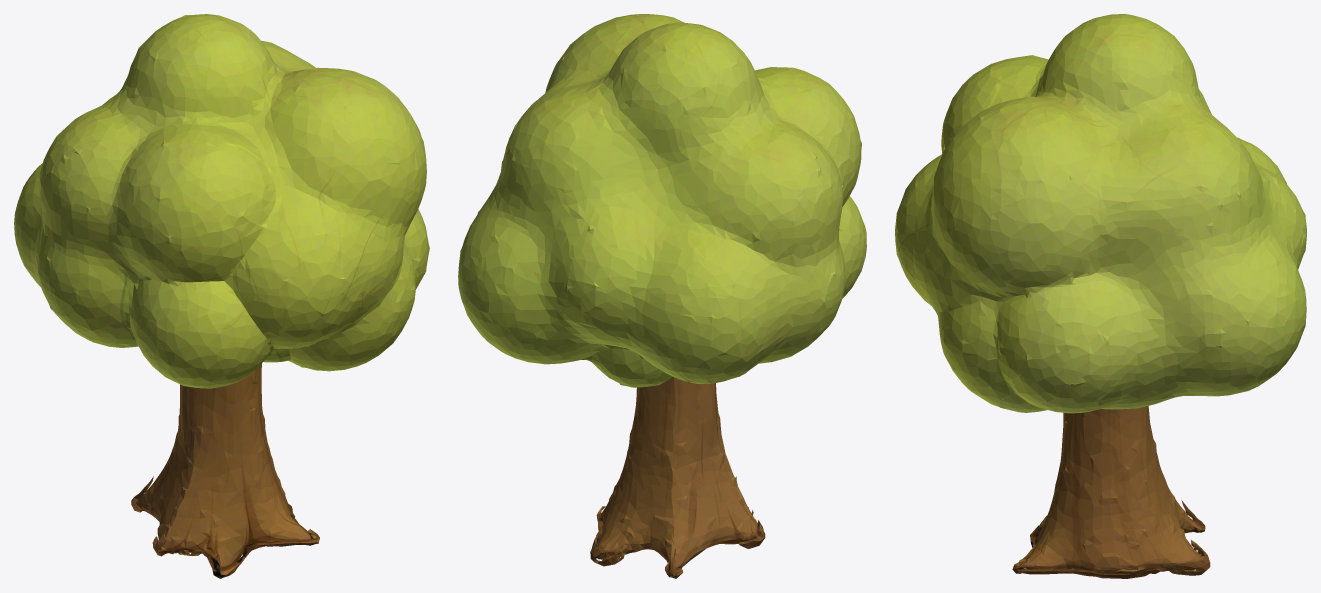
File: Tree_0523075430_texture.fbx
3 views of the same model, side by side, from view 1: azimuth 30°, elevation 25°; view 2: azimuth 150°, elevation 25°; view 3: azimuth 270°, elevation 25° (orthographic). The views are drawn at different scales.
Visible parts, largest first — view 1: temp; view 2: temp; view 3: temp.
Part boxes in pixels (x1=…): temp: x1=14, y1=14, x2=429, y2=578; temp: x1=458, y1=14, x2=866, y2=578; temp: x1=895, y1=14, x2=1306, y2=578.
Bounding box in the file's own units: 138 × 199 × 138.
Materials: 1 (1 with a texture image).
